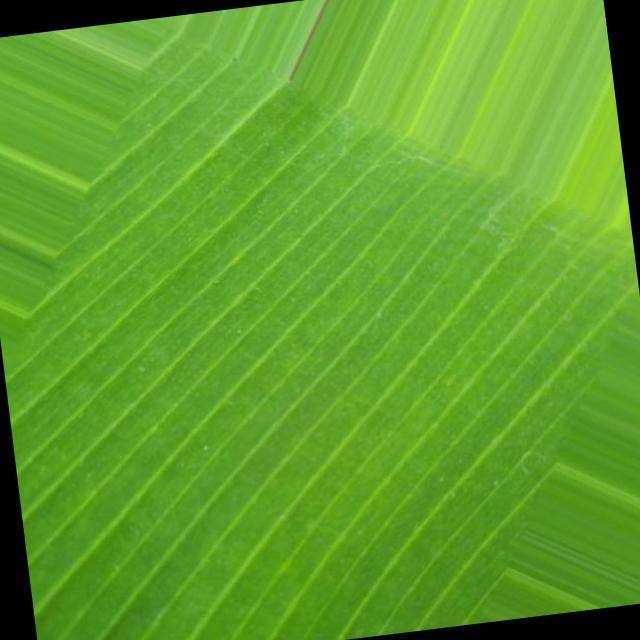Banana_Healthy: (108, 198, 492, 558)
